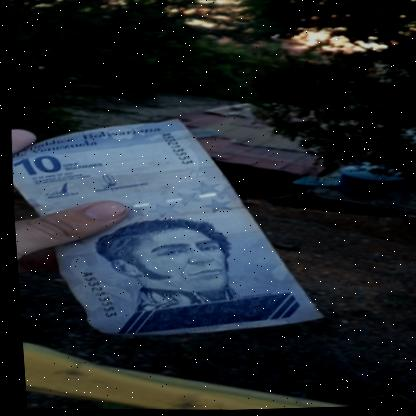ten-front-vef: (6, 110, 327, 347)
